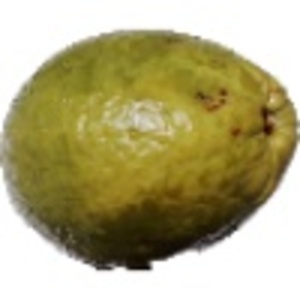goiaba: (3, 27, 297, 277)
